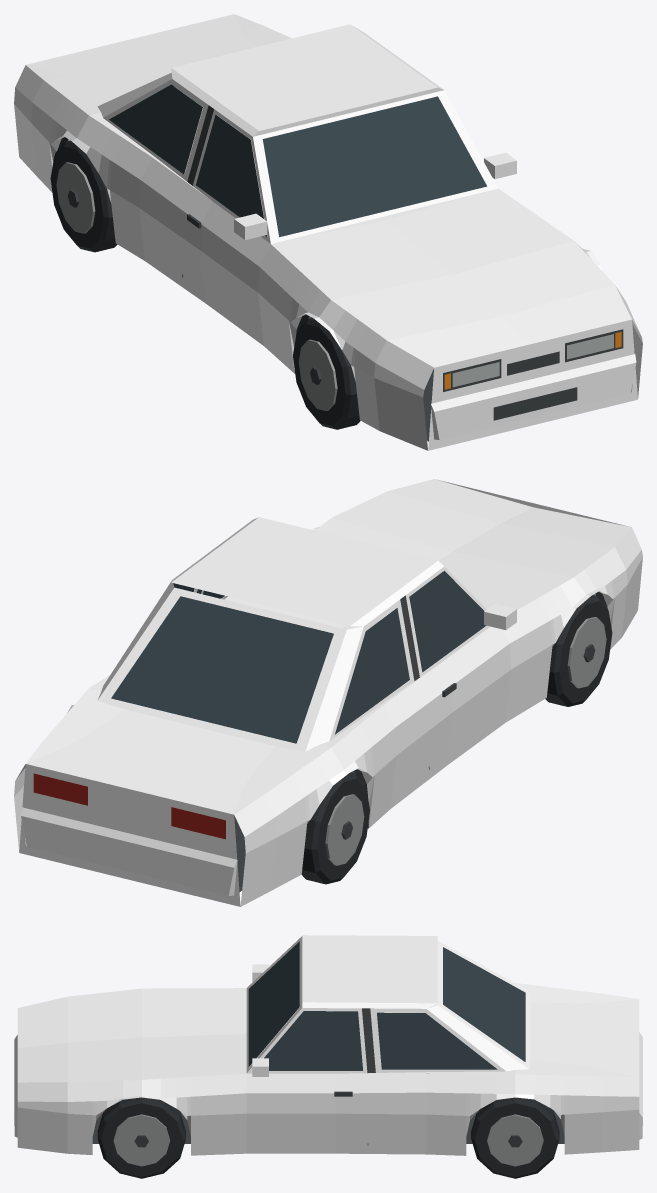
The model's file is hayase_enju_gt_99.glb.
3 views of the same model, one above another, from view 1: azimuth 30°, elevation 25°; view 2: azimuth 150°, elevation 25°; view 3: azimuth 270°, elevation 25° (orthographic). The views are drawn at different scales.
Parts seen in each view (by area): view 1: hayase_enju_gt_99; view 2: hayase_enju_gt_99; view 3: hayase_enju_gt_99.
Part boxes in pixels (<box>): hayase_enju_gt_99: <box>14,14,642,450</box>; hayase_enju_gt_99: <box>14,479,642,906</box>; hayase_enju_gt_99: <box>14,935,642,1178</box>.
Bounding box in the file's own units: 1.75 × 1.26 × 4.46.
Materials: 8 (1 with a texture image).
